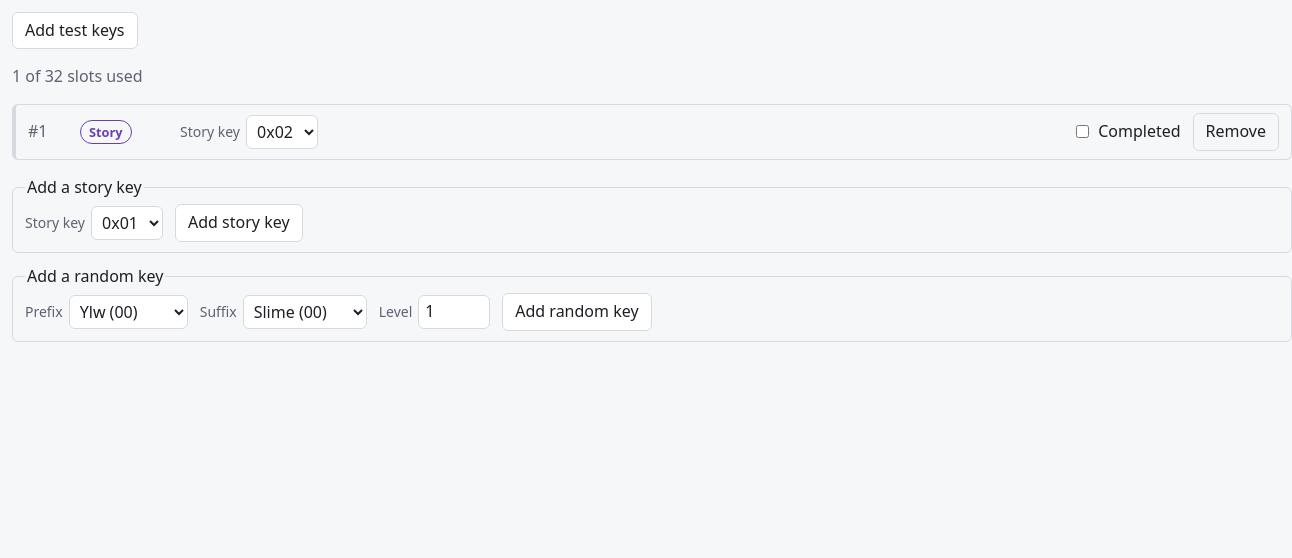
Test case: MagicKeysEditor › applies a preset and reports what it added
The image size is (1292, 558).
Click the button "Add test keys".
click(75, 31)  # box [12,12,138,49]
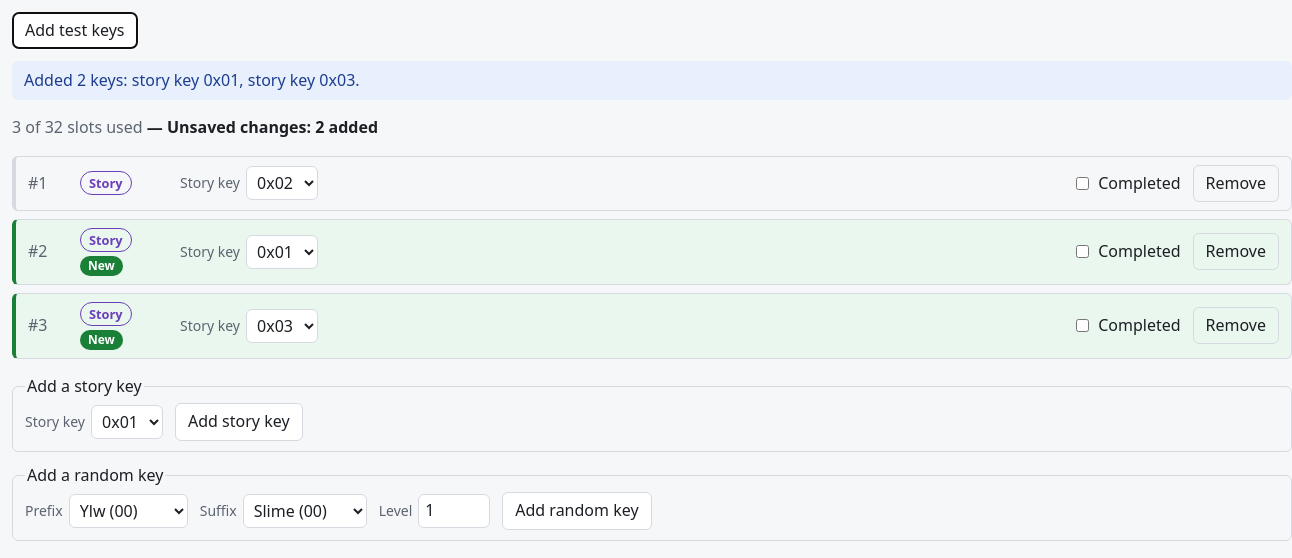
Result: the message shows "Added 2 keys" at [24,69,360,91]
